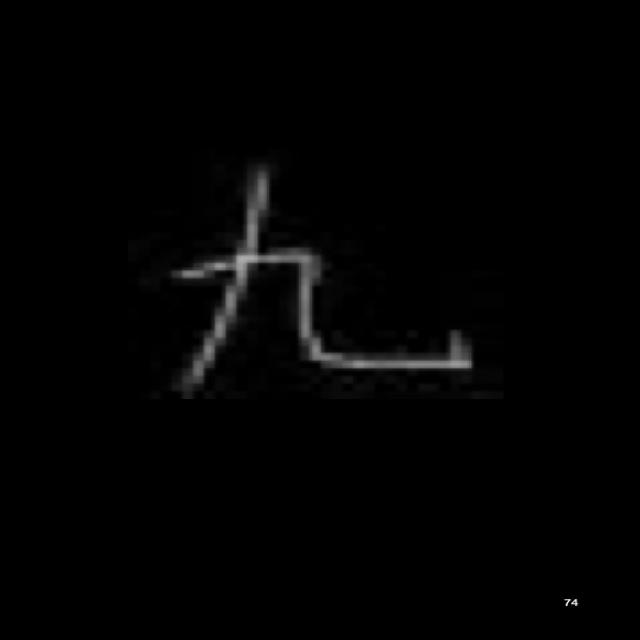9 -nine-: (159, 161, 495, 392)
